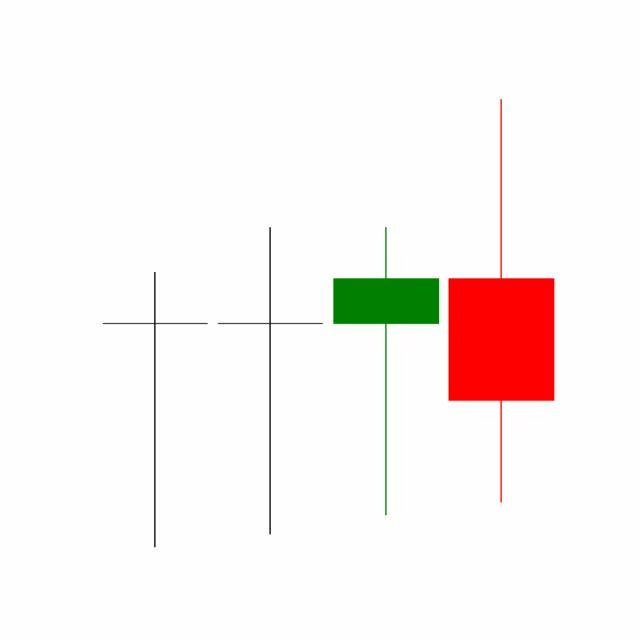Spinning Top: (329, 225, 445, 520)
